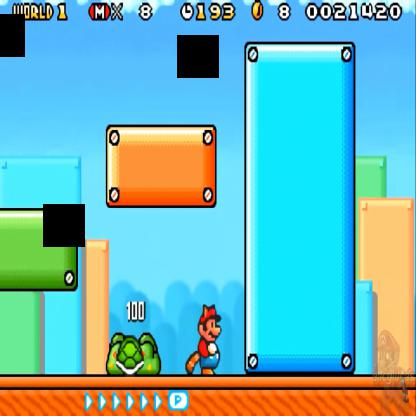Mario: (180, 294, 227, 386)
caparazon: (115, 331, 147, 375)
